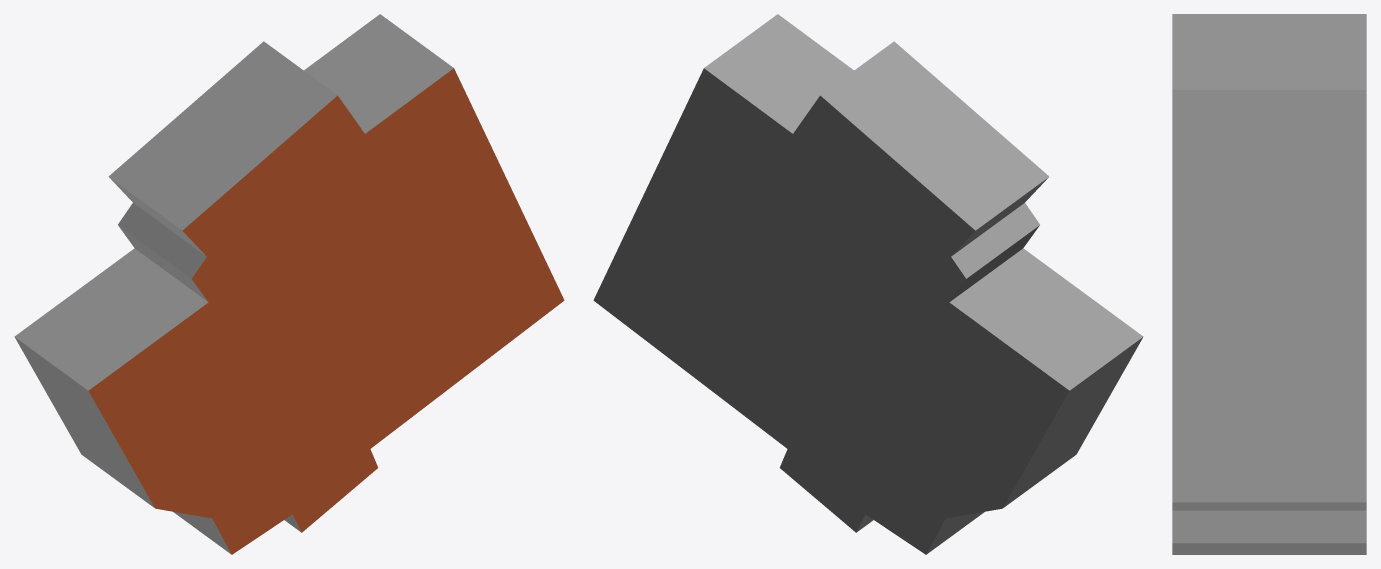
File: construction_3540_assumed_A_Casa_h6m.obj
3 views of the same model, side by side, from view 1: azimuth 30°, elevation 25°; view 2: azimuth 150°, elevation 25°; view 3: azimuth 270°, elevation 25° (orthographic). The views are drawn at different scales.
Parts seen in each view (by area): view 1: construction_3540_assumed_A_Casa; view 2: construction_3540_assumed_A_Casa; view 3: construction_3540_assumed_A_Casa.
Boxes of the visible parts, bbox=[...] form: construction_3540_assumed_A_Casa: bbox=[14, 14, 564, 554]; construction_3540_assumed_A_Casa: bbox=[593, 14, 1143, 554]; construction_3540_assumed_A_Casa: bbox=[1172, 14, 1366, 554].
Bounding box in the file's own units: 22.31 × 19.41 × 6.
